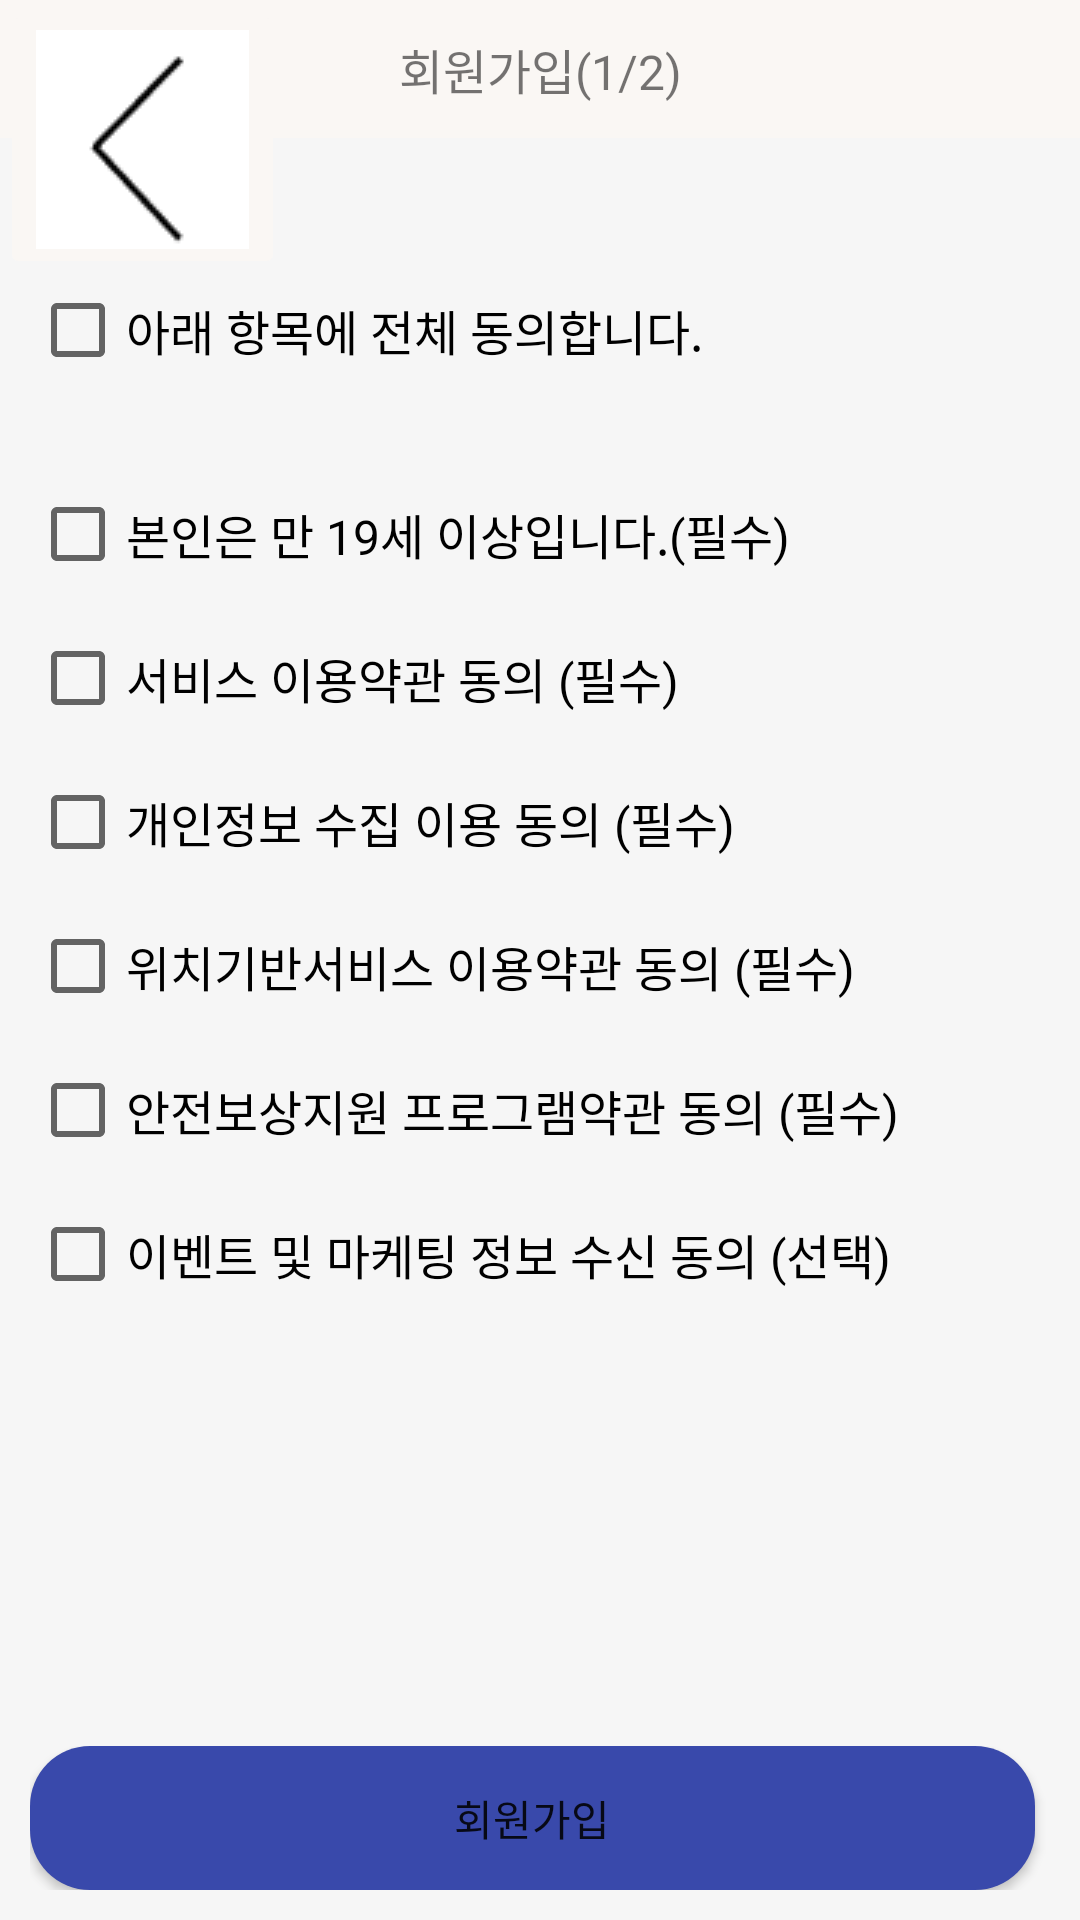

Icons on this 1080 × 1920 Android screen, each with its box as (x1, y1, x2, y2):
arrow: (36, 30, 249, 249)
